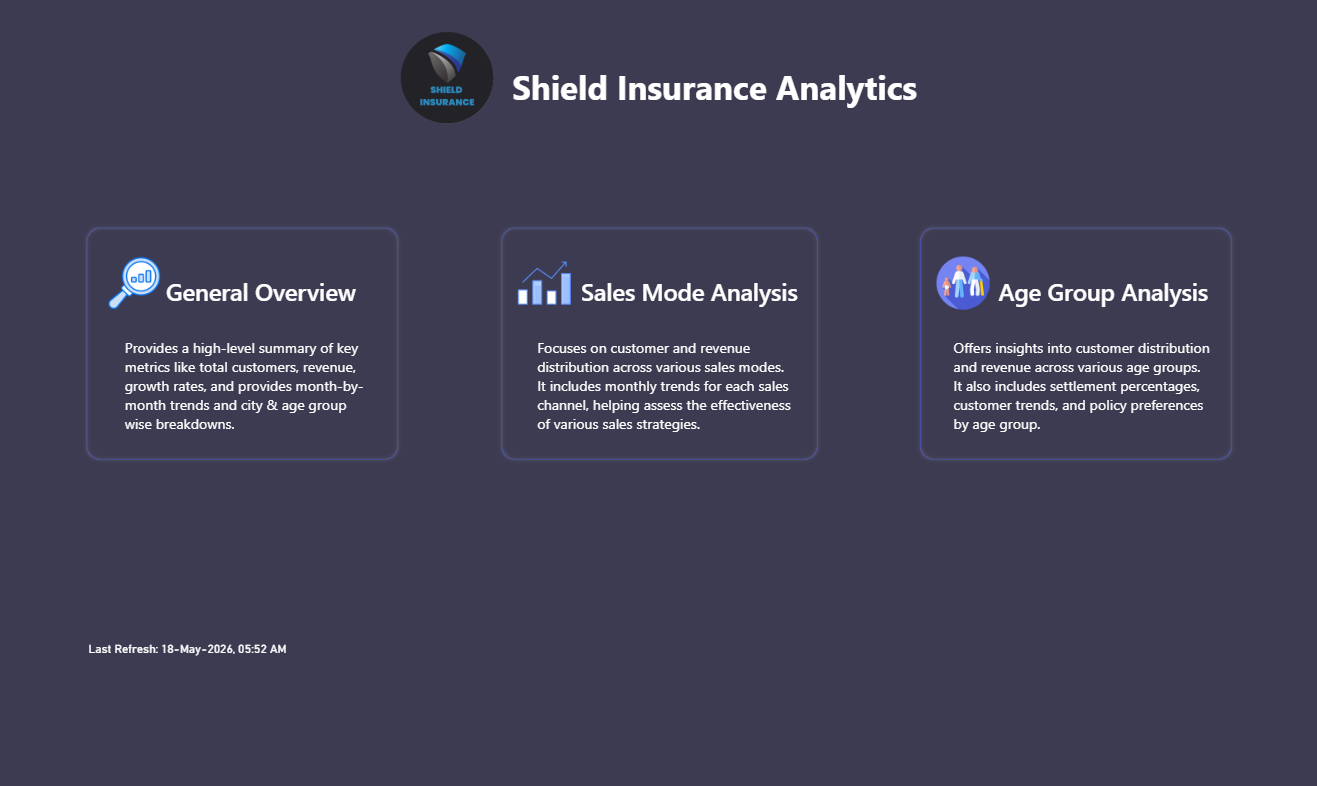

The page's visual inventory and layout, read from the dashboard file:
{"tool":"powerbi","page":{"name":"Home","canvas":[1500,900],"ordinal":0},"visuals":[{"type":"shape","box":[100,260,360,270],"z":0},{"type":"textbox","box":[1128.2,312.5,300,70],"z":0,"group":"g1"},{"type":"textbox","box":[657.5,312.6,300,70],"z":0,"group":"g2"},{"type":"textbox","box":[188.5,312.8,269.9,70.9],"z":0,"group":"g3"},{"type":"shape","box":[568,259.4,365,270],"z":1000},{"type":"image","box":[127.7,295.5,60,60],"z":1000,"group":"g3"},{"type":"image","box":[1063,295.5,60,60],"z":1000,"group":"g1"},{"type":"image","box":[590.7,295.6,60,60],"z":1000,"group":"g2"},{"type":"shape","box":[1040.6,259.4,360,270],"z":2000},{"type":"textbox","box":[579.9,75,474.5,66.8],"z":3000},{"type":"image","box":[445.6,31.7,131.2,125.2],"z":4000},{"type":"group","id":"g1","title":"Group 1","box":[1063,295.5,365.2,86.4],"z":5000},{"type":"group","id":"g2","title":"Group 2","box":[590.7,295.6,366.8,86.4],"z":6000},{"type":"group","id":"g3","title":"Group 3","box":[127.7,295.5,330.7,88.2],"z":7000},{"type":"textbox","box":[142.4,382,295.1,123.9],"z":8000},{"type":"textbox","box":[607.8,382,300,123],"z":9000},{"type":"textbox","box":[1076.8,381.9,300.1,123.7],"z":10000},{"type":"shape","title":"Sales Mode","box":[591.1,295,320,205],"z":11000},{"type":"shape","title":"Overview","box":[120.7,295,320,203.8],"z":12000},{"type":"shape","title":"Age Group","box":[1063.2,295,320,205],"z":13000},{"type":"card","fields":{"Values":["Key Measures.Last Refresh"]},"box":[72.3,722.3,293.1,37.7],"z":14000}]}

Visuals, with their boxes in screenshot pixels (x1, y1, x2, y2), scaled from the page's 1500x900 canvas onto the 1317x786 screenshot:
shape: (left=88, top=227, right=404, bottom=463)
textbox: (left=991, top=273, right=1254, bottom=334)
textbox: (left=577, top=273, right=841, bottom=334)
textbox: (left=166, top=273, right=402, bottom=335)
shape: (left=499, top=227, right=819, bottom=462)
image: (left=112, top=258, right=165, bottom=310)
image: (left=933, top=258, right=986, bottom=310)
image: (left=519, top=258, right=571, bottom=311)
shape: (left=914, top=227, right=1230, bottom=462)
textbox: (left=509, top=66, right=926, bottom=124)
image: (left=391, top=28, right=506, bottom=137)
"Group 1" group: (left=933, top=258, right=1254, bottom=334)
"Group 2" group: (left=519, top=258, right=841, bottom=334)
"Group 3" group: (left=112, top=258, right=402, bottom=335)
textbox: (left=125, top=334, right=384, bottom=442)
textbox: (left=534, top=334, right=797, bottom=441)
textbox: (left=945, top=334, right=1209, bottom=442)
"Sales Mode" shape: (left=519, top=258, right=800, bottom=437)
"Overview" shape: (left=106, top=258, right=387, bottom=436)
"Age Group" shape: (left=933, top=258, right=1214, bottom=437)
card - Key Measures.Last Refresh: (left=63, top=631, right=321, bottom=664)
